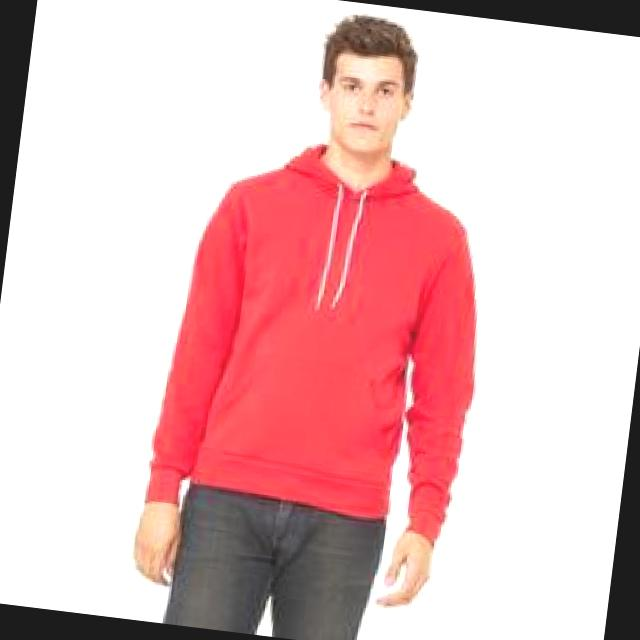sweater: (140, 128, 504, 548)
